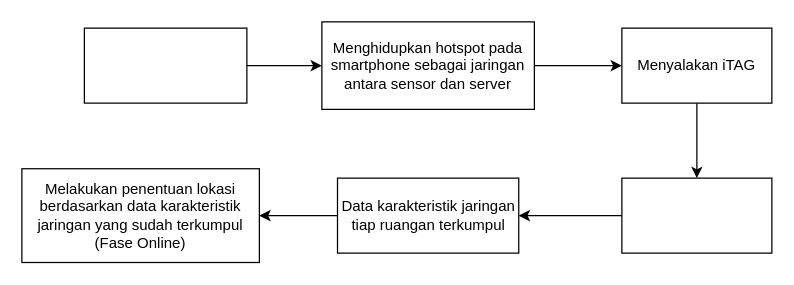
Image size: 794x285. Some labels were removed from this diagram. The shapes that lost their labels are listed below. From the top down, each one's box as (x1, y1, x2, y2) in pixels, then its label:
(83, 27, 247, 103): Memasang Sensor ESP32 pada 3 ruangan terpilih.
(621, 177, 772, 253): Melakukan Pengumpulan Data (Fase Training)
